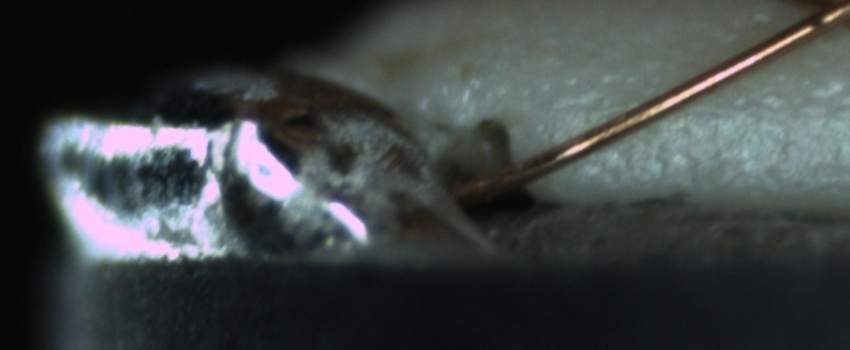DL: (556, 74, 849, 135)
